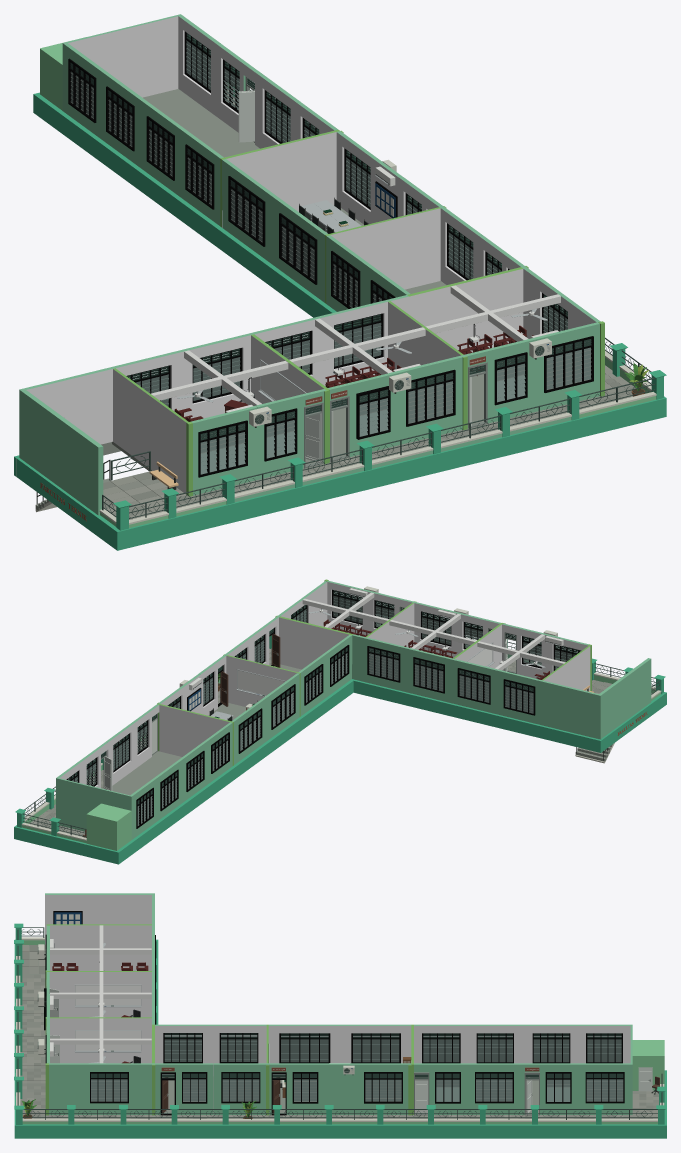
Rendered from laboratorium_lt3_indoor.glb.
3 renders of one model, top to bottom at view 1: azimuth 30°, elevation 25°; view 2: azimuth 150°, elevation 25°; view 3: azimuth 270°, elevation 25°, orthographic. The views are drawn at different scales.
Parts seen in each view (by area): view 1: L2_Balok_fasad_utama, L2_B07_Bukaan_1_jalusi_Daun_jalusi_2.016, L3_Fasad_depan_bagian_logo, L3_Partisi_perkiraan_X12.001, L3_Partisi_perkiraan_X12.002, L3_B01_Dinding_dengan_bukaan.001, L3_Partisi_perkiraan_X6.4, L2_Partisi_perkiraan_X12.007, L2_Pelat_ruang.001, L2_B07_Bukaan_1_jalusi_Daun_jalusi_2.030, L2_B07_Bukaan_1_jalusi_Daun_jalusi_2.029, L2_B07_Bukaan_1_jalusi_Daun_jalusi_2.017 (+37 smaller); view 2: L2_Balok_fasad_utama, L2_B07_Bukaan_1_jalusi_Daun_jalusi_2.016, L2_B07_Bukaan_1_jalusi_Daun_jalusi_2.018, L3_B01_Dinding_dengan_bukaan.001, L3_Fasad_depan_bagian_logo, L2_Partisi_perkiraan_X12.007, L3_Partisi_perkiraan_X12.001, L2_B07_Bukaan_1_jalusi_Daun_jalusi_2.017, L2_B07_Bukaan_1_jalusi_Daun_jalusi_2.019, L2_Dinding_annex_belakang.003, L2_Pelat_ruang.001, L2_B07_Bukaan_1_jalusi_Daun_jalusi_2.030 (+29 smaller); view 3: L2_Balok_fasad_utama, L2_B07_Bukaan_1_jalusi_Daun_jalusi_2.007, L2_B07_Bukaan_1_jalusi_Daun_jalusi_2.004, L3_Partisi_perkiraan_X6.4, L3_Fasad_depan_bagian_logo, L2_B07_Bukaan_1_jalusi_Daun_jalusi_2.030, L2_B07_Bukaan_1_jalusi_Daun_jalusi_2.005, L3_B01_Dinding_dengan_bukaan, L2_B07_Bukaan_1_jalusi_Daun_jalusi_2.006, L3_Partisi_perkiraan_X12.8, L2_B07_Bukaan_1_jalusi_Daun_jalusi_2.029, L2_B07_Bukaan_1_jalusi_Daun_jalusi_2.003 (+37 smaller).
Part boxes in pixels (<box>): L2_Balok_fasad_utama: <box>14,92,666,550</box>; L2_B07_Bukaan_1_jalusi_Daun_jalusi_2.016: <box>19,350,182,458</box>; L3_Fasad_depan_bagian_logo: <box>21,390,103,515</box>; L3_Partisi_perkiraan_X12.001: <box>62,15,178,111</box>; L3_Partisi_perkiraan_X12.002: <box>325,207,440,303</box>; L3_B01_Dinding_dengan_bukaan.001: <box>220,129,339,227</box>; L3_Partisi_perkiraan_X6.4: <box>113,368,188,494</box>; L2_Partisi_perkiraan_X12.007: <box>407,267,523,352</box>; L2_Pelat_ruang.001: <box>103,89,518,482</box>; L2_B07_Bukaan_1_jalusi_Daun_jalusi_2.030: <box>273,196,327,302</box>; L2_B07_Bukaan_1_jalusi_Daun_jalusi_2.029: <box>222,159,275,264</box>; L2_B07_Bukaan_1_jalusi_Daun_jalusi_2.017: <box>180,333,253,418</box>; L2_Balok_fasad_utama: <box>14,679,666,864</box>; L2_B07_Bukaan_1_jalusi_Daun_jalusi_2.016: <box>497,669,601,739</box>; L2_B07_Bukaan_1_jalusi_Daun_jalusi_2.018: <box>352,634,407,692</box>; L3_B01_Dinding_dengan_bukaan.001: <box>157,703,233,765</box>; L3_Fasad_depan_bagian_logo: <box>599,658,651,737</box>; L2_Partisi_perkiraan_X12.007: <box>279,616,353,669</box>; L3_Partisi_perkiraan_X12.001: <box>58,778,132,839</box>; L2_B07_Bukaan_1_jalusi_Daun_jalusi_2.017: <box>451,658,498,714</box>; L2_B07_Bukaan_1_jalusi_Daun_jalusi_2.019: <box>407,647,452,702</box>; L2_Dinding_annex_belakang.003: <box>88,804,131,850</box>; L2_Pelat_ruang.001: <box>112,664,301,795</box>; L2_B07_Bukaan_1_jalusi_Daun_jalusi_2.030: <box>264,673,299,741</box>; L2_Balok_fasad_utama: <box>14,939,666,1138</box>; L2_B07_Bukaan_1_jalusi_Daun_jalusi_2.007: <box>50,1063,157,1114</box>; L2_B07_Bukaan_1_jalusi_Daun_jalusi_2.004: <box>324,1063,411,1114</box>; L3_Partisi_perkiraan_X6.4: <box>50,924,151,970</box>; L3_Fasad_depan_bagian_logo: <box>45,893,151,944</box>; L2_B07_Bukaan_1_jalusi_Daun_jalusi_2.030: <box>268,1024,340,1074</box>; L2_B07_Bukaan_1_jalusi_Daun_jalusi_2.005: <box>466,1063,524,1114</box>; L3_B01_Dinding_dengan_bukaan: <box>46,971,151,1017</box>; L2_B07_Bukaan_1_jalusi_Daun_jalusi_2.006: <box>577,1063,632,1114</box>; L3_Partisi_perkiraan_X12.8: <box>50,1017,151,1063</box>; L2_B07_Bukaan_1_jalusi_Daun_jalusi_2.029: <box>341,1024,411,1063</box>; L2_B07_Bukaan_1_jalusi_Daun_jalusi_2.003: <box>213,1063,268,1114</box>.
Size of the model in its own units: 25.43 by 5.12 by 37.71.
513 materials, 8 textured.
